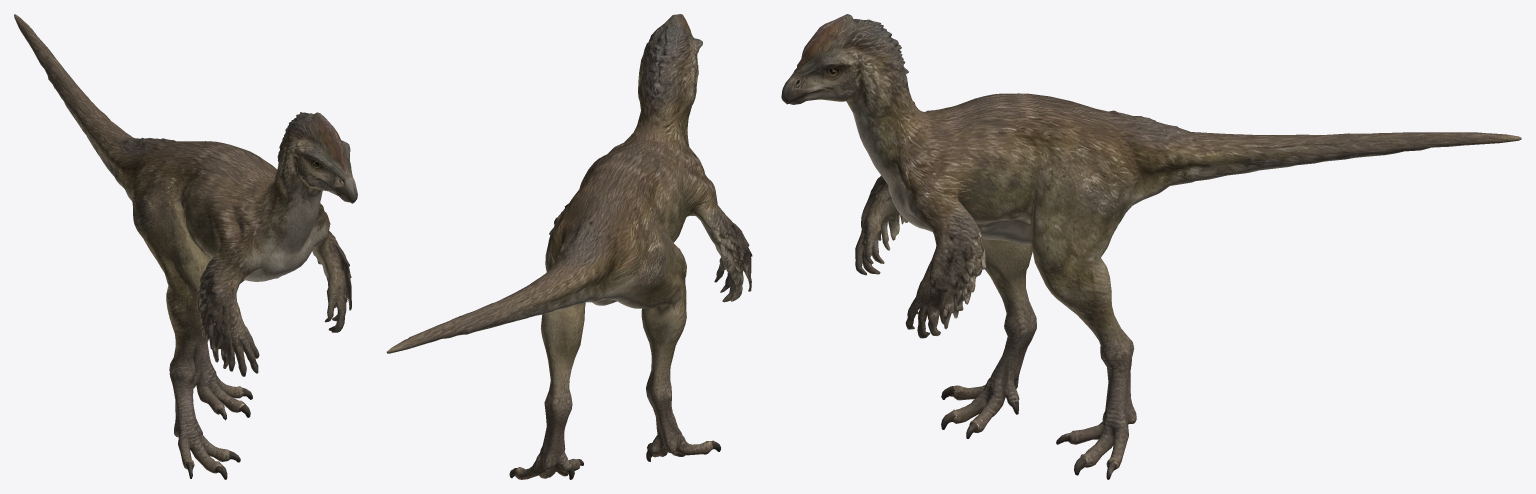
File: oviraptor.glb
The picture shows the model from 3 angles, left to right: view 1: azimuth 30°, elevation 25°; view 2: azimuth 150°, elevation 25°; view 3: azimuth 270°, elevation 25°; orthographic projection. The views are drawn at different scales.
Visible parts, largest first — view 1: dino; view 2: dino; view 3: dino.
Part boxes in pixels (bbox=[...]): dino: bbox=[14, 14, 357, 479]; dino: bbox=[386, 14, 752, 479]; dino: bbox=[781, 14, 1521, 479].
Bounding box in the file's own units: 0.6007 × 1.32 × 2.
Materials: 1 (1 with a texture image).
